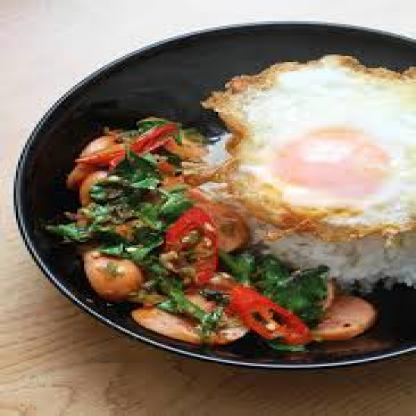Basil Rice: (64, 73, 414, 354)
